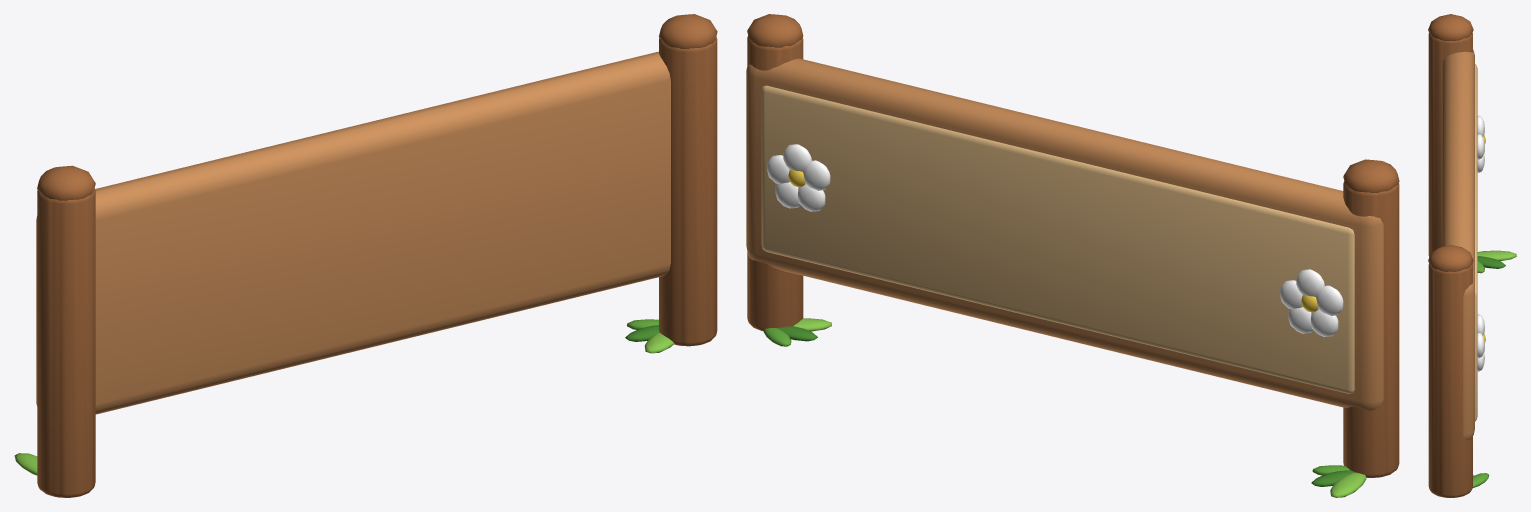
File: Sign.fbx
3 views of the same model, side by side, from view 1: azimuth 30°, elevation 25°; view 2: azimuth 150°, elevation 25°; view 3: azimuth 270°, elevation 25° (orthographic). The views are drawn at different scales.
Parts seen in each view (by area): view 1: Sign; view 2: Sign; view 3: Sign.
Part boxes in pixels (<box>): Sign: <box>14,14,717,497</box>; Sign: <box>746,14,1399,497</box>; Sign: <box>1428,14,1516,497</box>.
Bounding box in the file's own units: 4.65 × 2.12 × 0.7004.
Materials: 1 (1 with a texture image).
